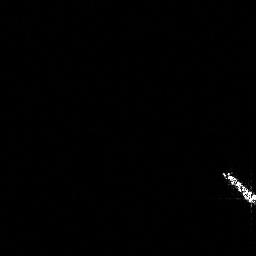ship: (217, 167, 256, 208)
